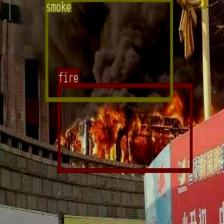fire: (57, 83, 192, 171)
smoke: (45, 0, 172, 101)
